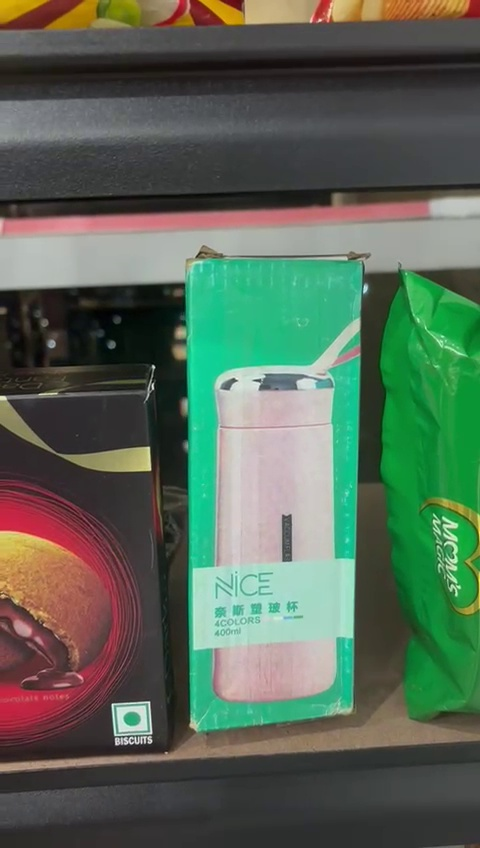Bottle: (185, 258, 352, 726)
